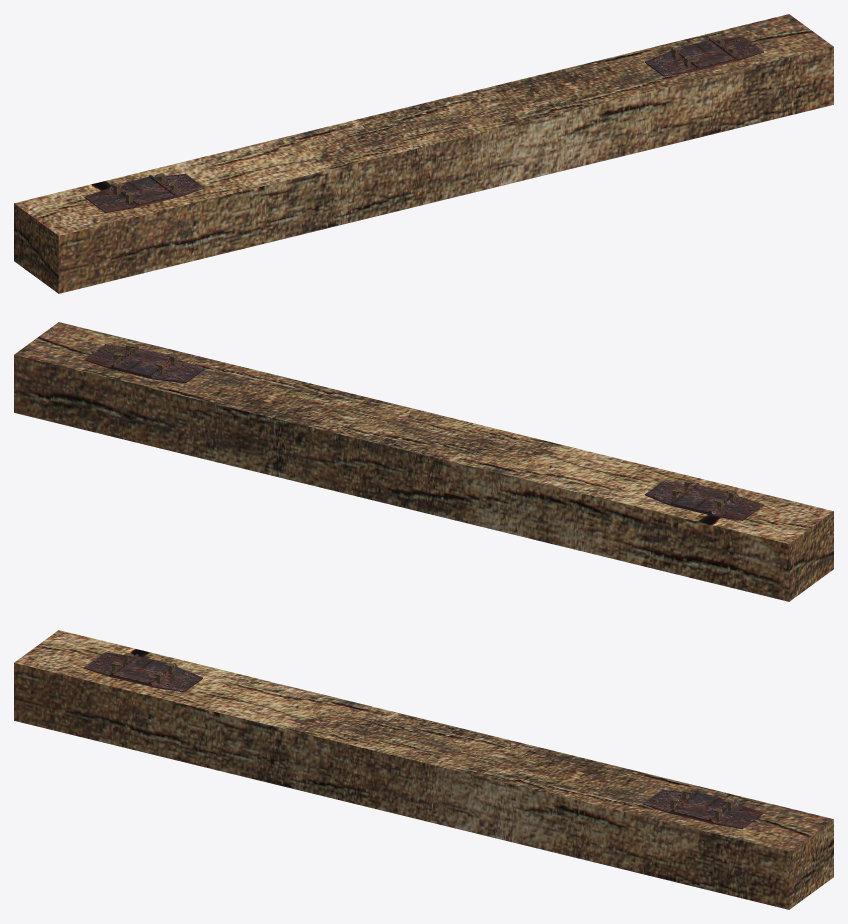
Rendered from Shpala.fbx.
3 renders of one model, top to bottom at view 1: azimuth 30°, elevation 25°; view 2: azimuth 150°, elevation 25°; view 3: azimuth 330°, elevation 25°, orthographic.
Parts seen in each view (by area): view 1: Shpala.003; view 2: Shpala.003; view 3: Shpala.003.
Part boxes in pixels (box(x1,y1,x2,y2)): Shpala.003: box(14, 14, 833, 293); Shpala.003: box(14, 322, 833, 601); Shpala.003: box(14, 630, 833, 909).
Size of the model in its own units: 140 by 11.63 by 14.
